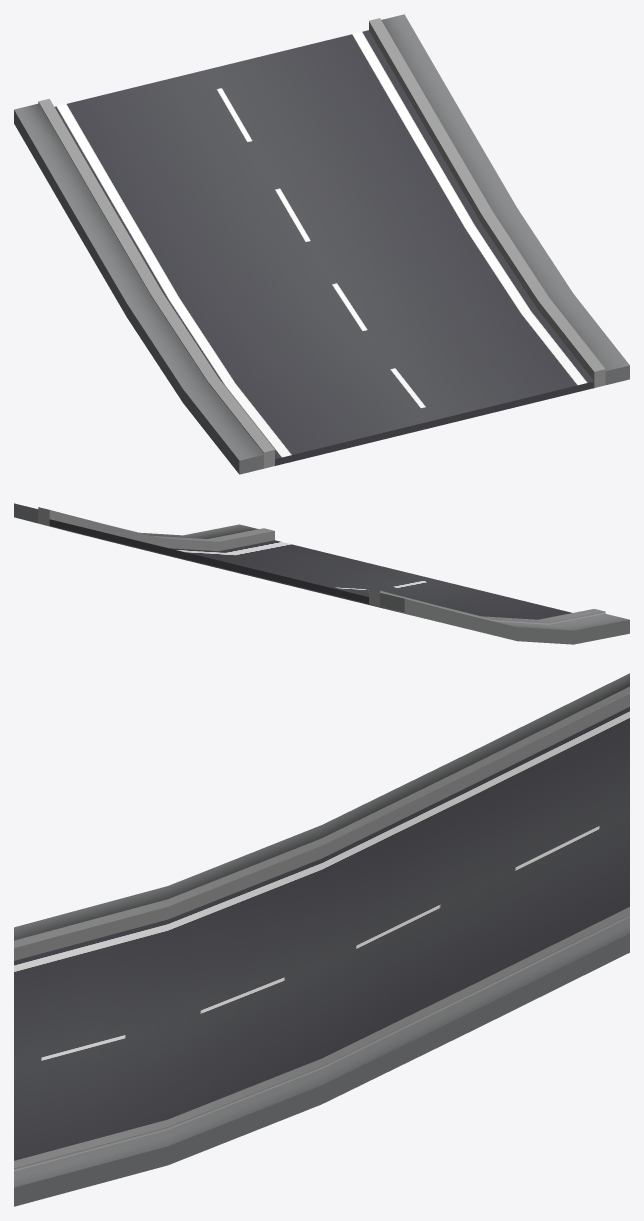
File: Road1Ramp1.fbx
3 renders of one model, top to bottom at view 1: azimuth 30°, elevation 25°; view 2: azimuth 150°, elevation 25°; view 3: azimuth 270°, elevation 25°, orthographic. The views are drawn at different scales.
Visible parts, largest first — view 1: Road1Ramp1; view 2: Road1Ramp1; view 3: Road1Ramp1.
Boxes of the visible parts, bbox=[...] form: Road1Ramp1: bbox=[14, 14, 629, 474]; Road1Ramp1: bbox=[14, 503, 629, 644]; Road1Ramp1: bbox=[14, 673, 629, 1206].
Size of the model in its own units: 12 by 5.94 by 12.
